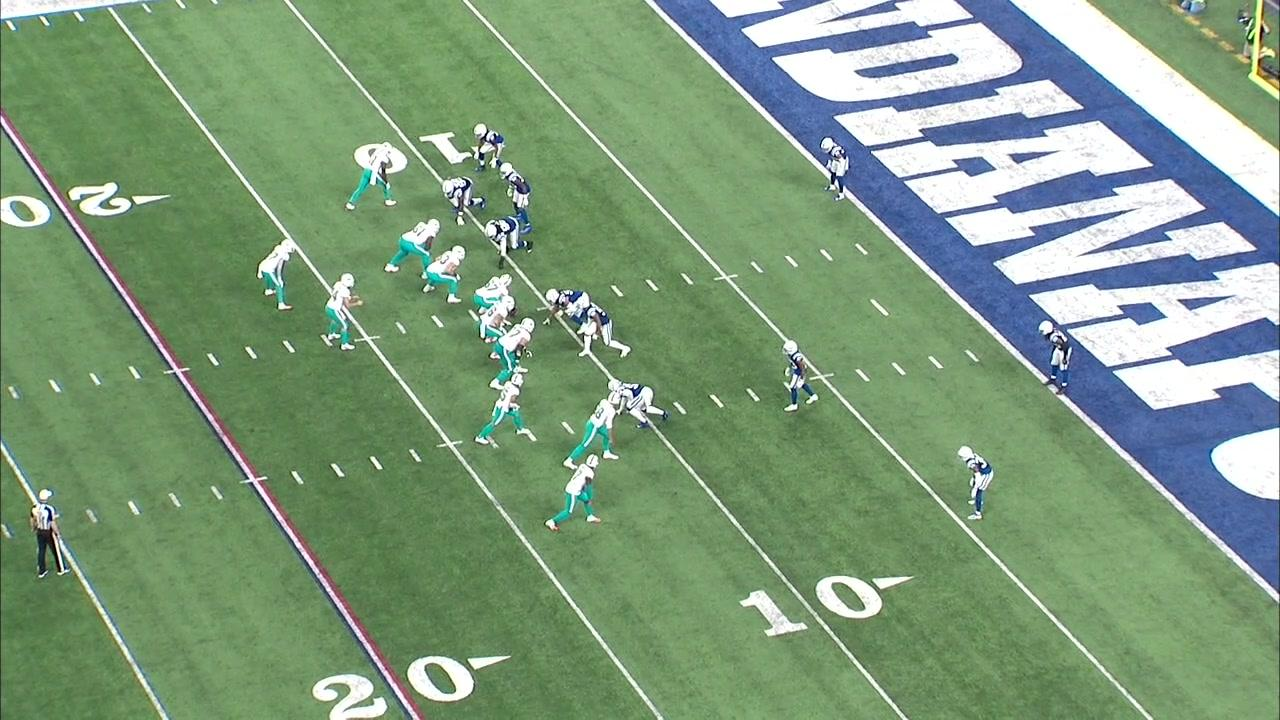player: (560, 389, 620, 464), (471, 371, 528, 447), (547, 455, 601, 530), (487, 316, 537, 391), (343, 141, 395, 211), (384, 216, 439, 278), (609, 380, 672, 433), (575, 298, 631, 357), (324, 272, 363, 352), (258, 236, 297, 312), (783, 337, 821, 415), (1038, 318, 1075, 397), (958, 446, 994, 524), (472, 295, 515, 359), (422, 244, 466, 304), (498, 161, 532, 234), (441, 173, 487, 226), (483, 218, 535, 260), (819, 135, 849, 204), (469, 121, 504, 173), (546, 285, 585, 328), (472, 274, 512, 314)
ref: (31, 489, 67, 577)
